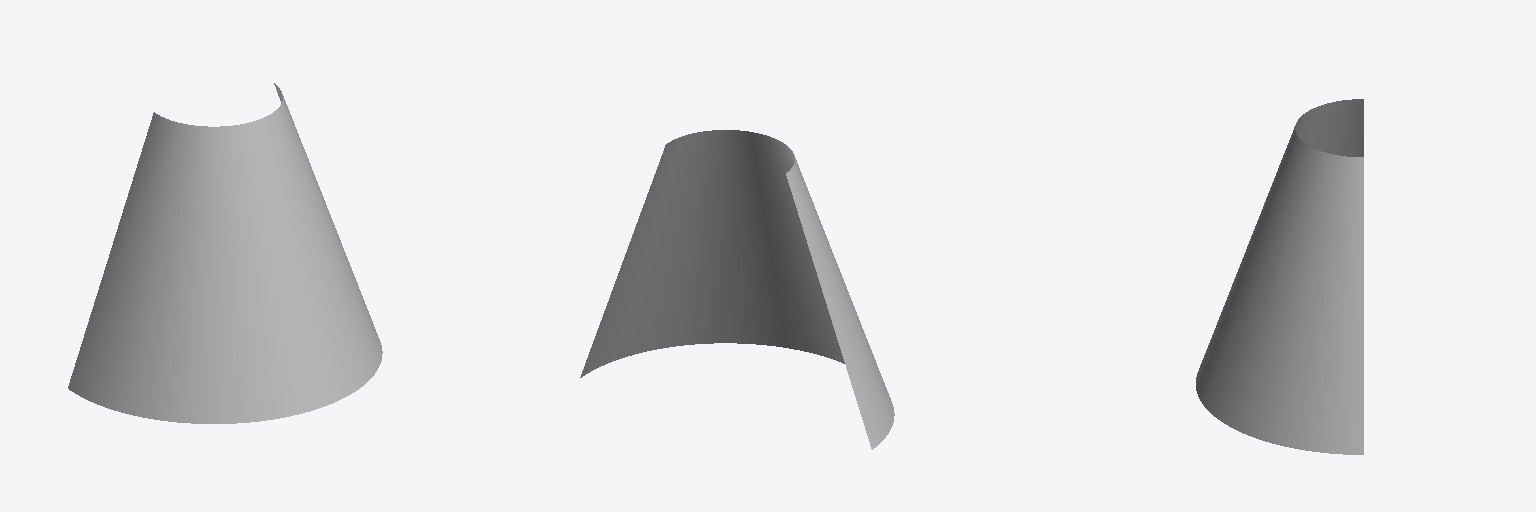
File: Color_Cone.obj
3 renders of one model, left to right at view 1: azimuth 30°, elevation 25°; view 2: azimuth 150°, elevation 25°; view 3: azimuth 270°, elevation 25°, orthographic.
Parts seen in each view (by area): view 1: mesh2.001; view 2: mesh2.001; view 3: mesh2.001.
Part boxes in pixels (x1,y1,x2,y2): mesh2.001: (68,83,382,423); mesh2.001: (580,130,894,449); mesh2.001: (1196,99,1363,454).
Size of the model in its own units: 0.1693 by 0.1414 by 0.0847.